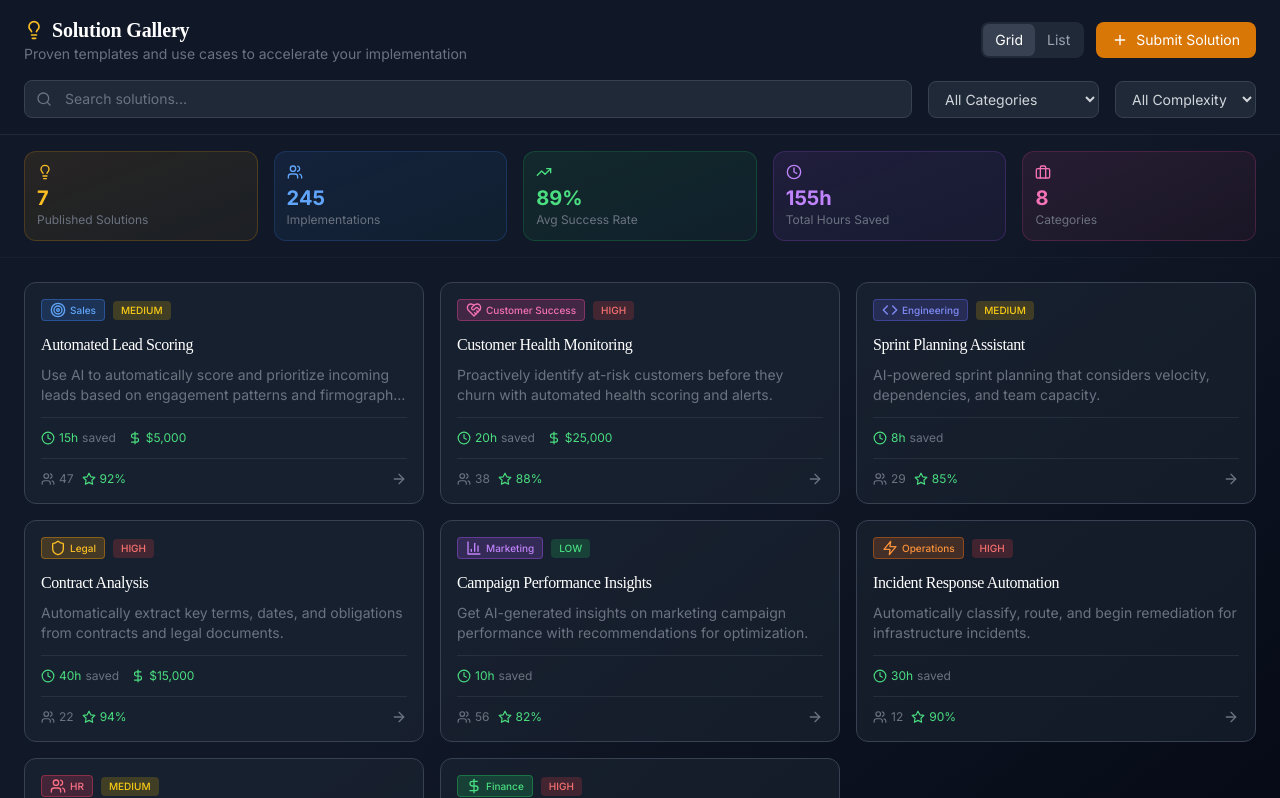
Scenario: SolutionsView › opens detail panel when clicking a use case
Note: Click on a use case
Click the heading "Automated Lead Scoring": (117,344) [41,336,193,353]
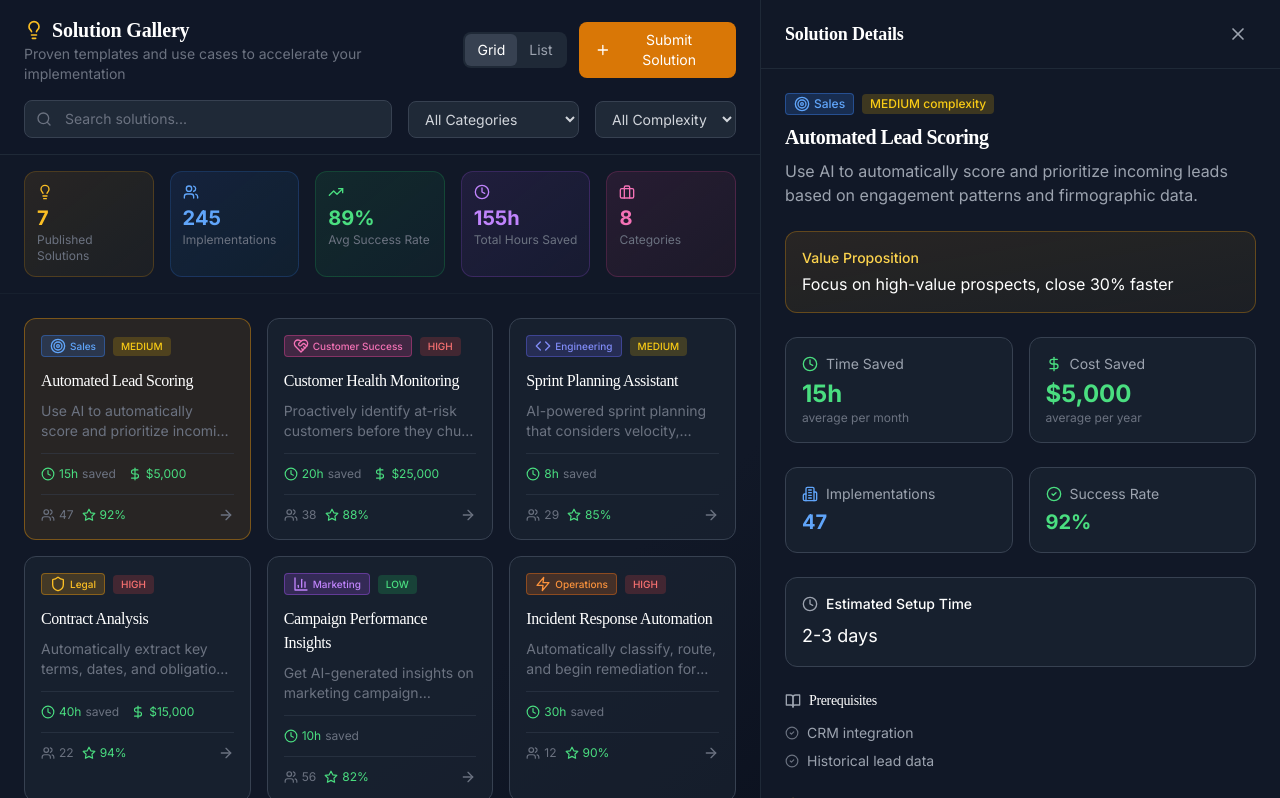
Now the heading "Solution Details" is shown, box [785,20,904,48]
